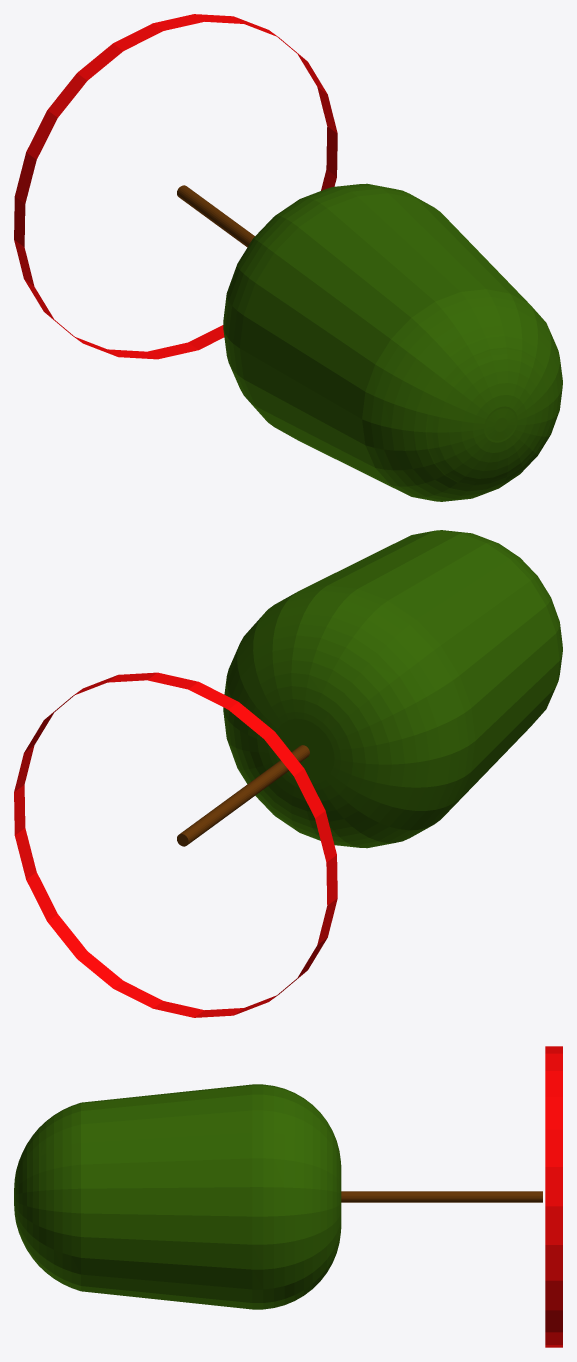
File: HPSo21m.obj
3 views of the same model, one above another, from view 1: azimuth 30°, elevation 25°; view 2: azimuth 150°, elevation 25°; view 3: azimuth 270°, elevation 25° (orthographic). The views are drawn at different scales.
Size of the model in its own units: 11.92 by 11.92 by 21.8.
